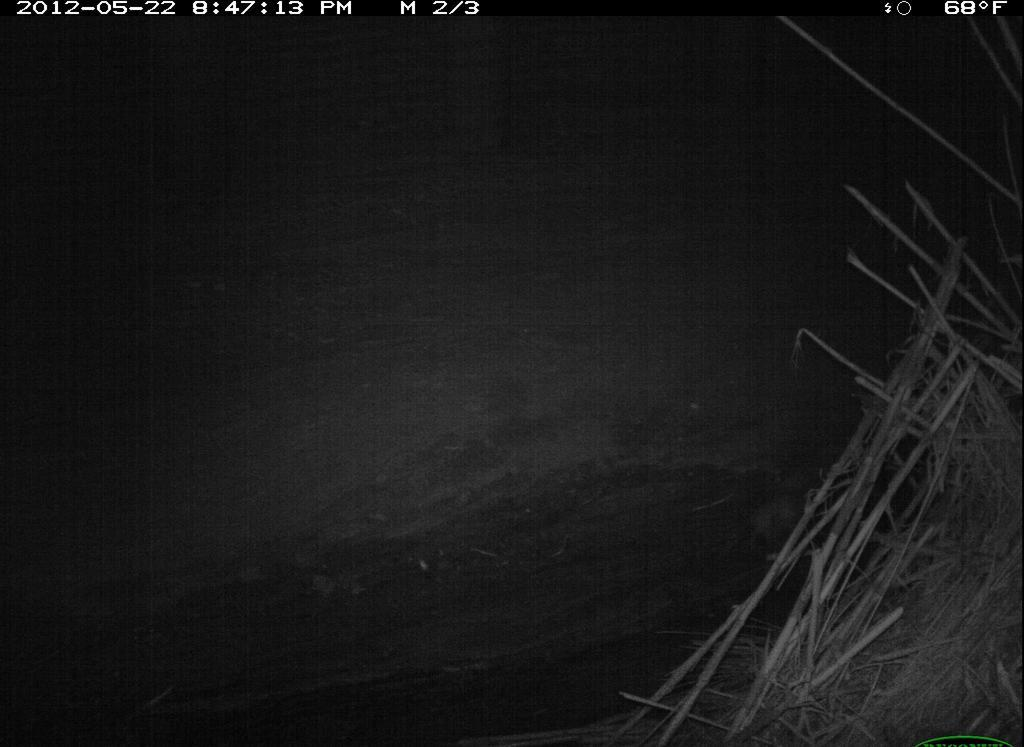opossum: (737, 473, 829, 559)
